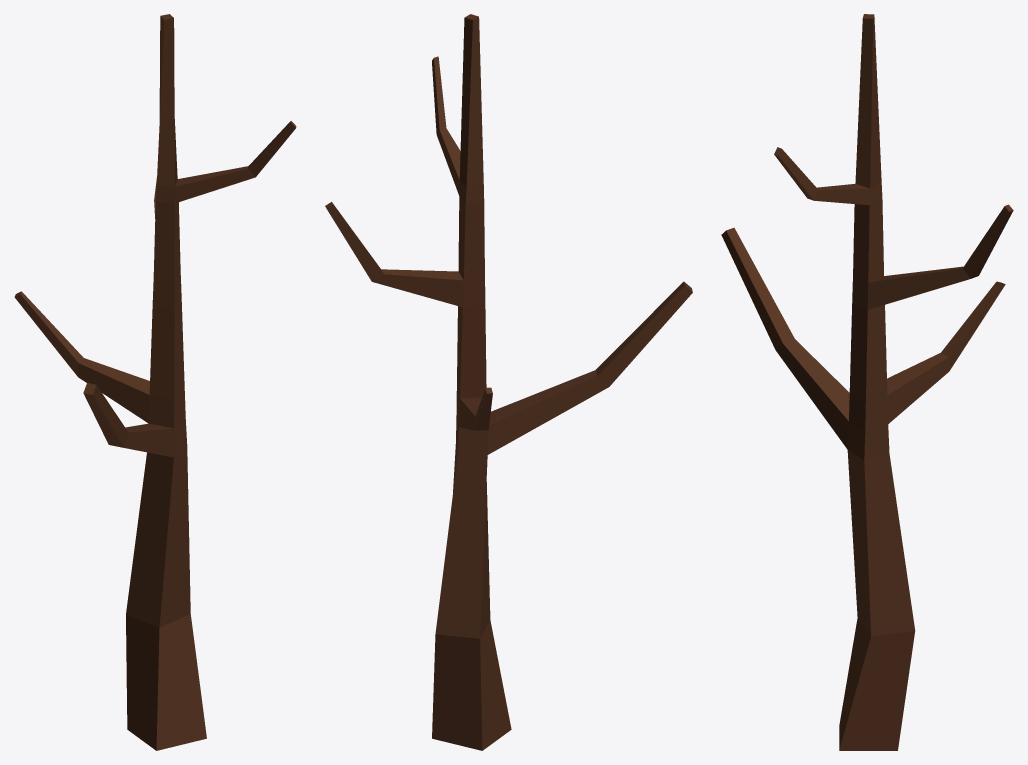
Rendered from DeadOak_02.fbx.
The picture shows the model from 3 angles, left to right: view 1: azimuth 30°, elevation 25°; view 2: azimuth 150°, elevation 25°; view 3: azimuth 270°, elevation 25°; orthographic projection.
Parts seen in each view (by area): view 1: DeadOak2; view 2: DeadOak2; view 3: DeadOak2.
Part boxes in pixels (<box>): DeadOak2: <box>14,14,296,750</box>; DeadOak2: <box>325,14,692,750</box>; DeadOak2: <box>721,14,1013,750</box>.
Bounding box in the file's own units: 230 × 665 × 244.
